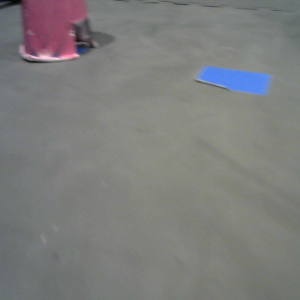middle: (18, 1, 100, 62)
